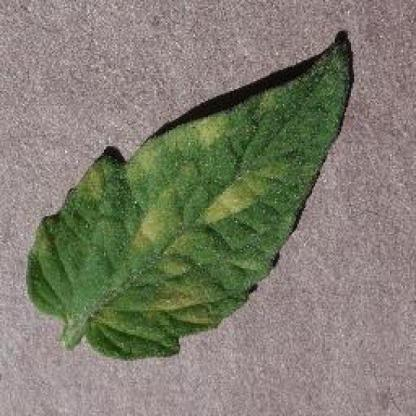Tomato_Leaf_Mold: (24, 64, 325, 343)
